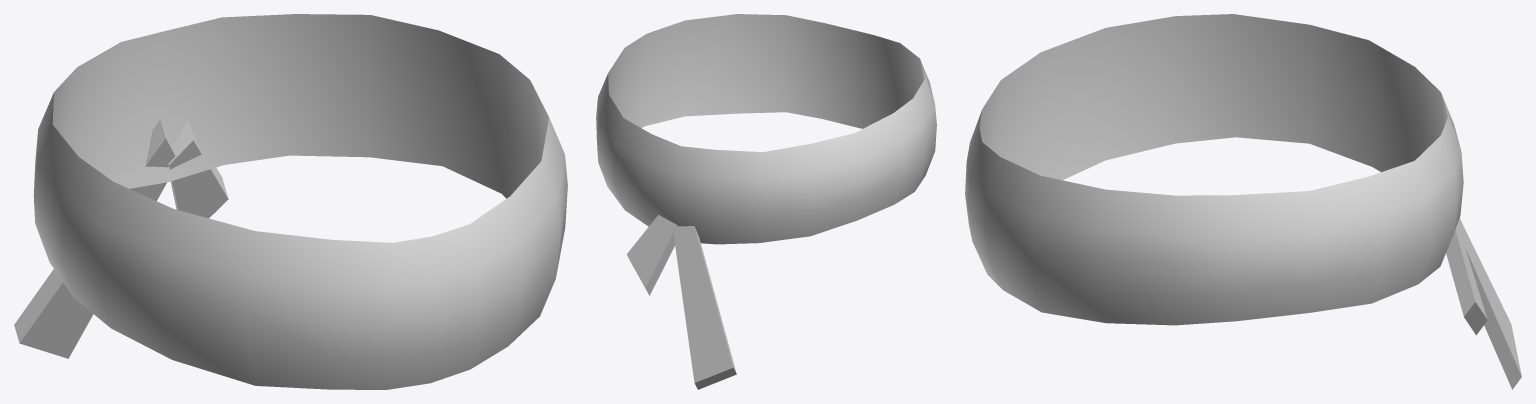
The model's file is blindfold.FBX.
The picture shows the model from 3 angles, left to right: view 1: azimuth 30°, elevation 25°; view 2: azimuth 150°, elevation 25°; view 3: azimuth 270°, elevation 25°; orthographic projection. The views are drawn at different scales.
Visible parts, largest first — view 1: blindfold; view 2: blindfold; view 3: blindfold.
Part boxes in pixels (x1,y1,x2,y2): blindfold: (14, 14, 567, 389); blindfold: (596, 14, 936, 389); blindfold: (965, 14, 1521, 389).
Size of the model in its own units: 4.01 by 2.98 by 4.82.
Materials: 1 (1 with a texture image).
